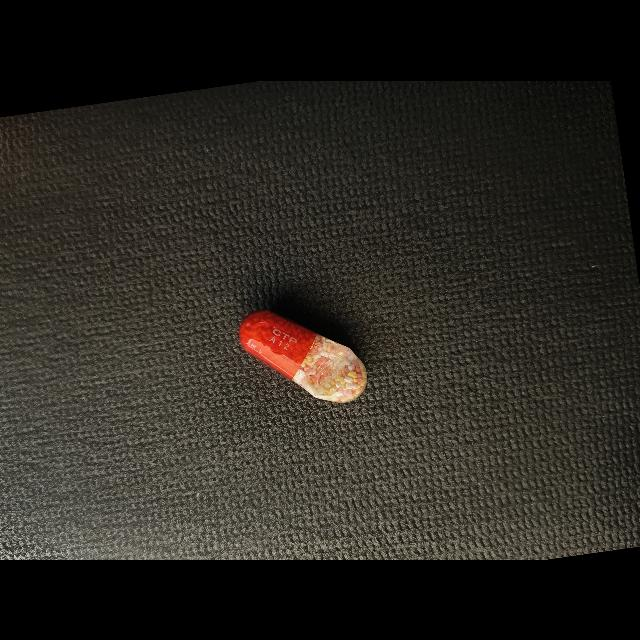Defective Capsule: (239, 310, 367, 403)
